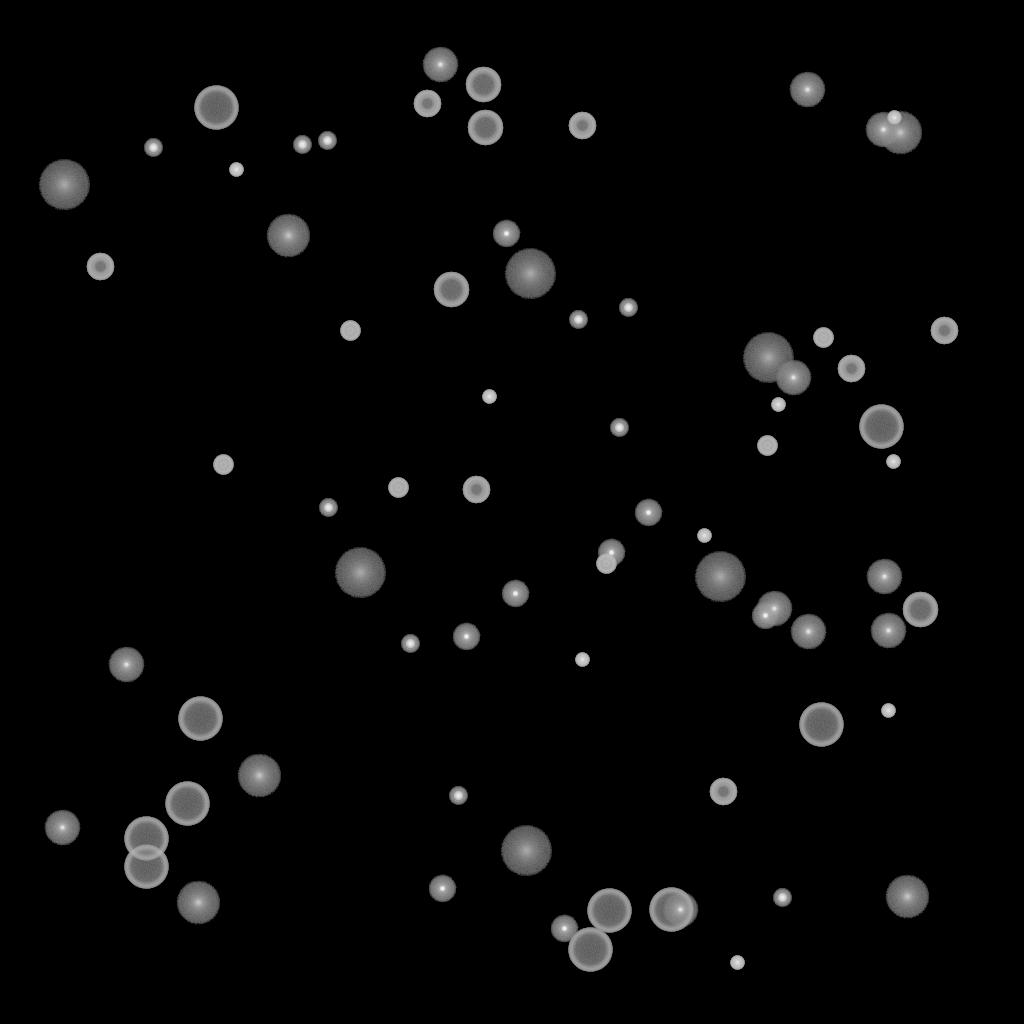depth:-10: (452, 623, 480, 651), (634, 499, 662, 527), (428, 875, 456, 903), (751, 602, 779, 630), (550, 915, 578, 943), (492, 220, 520, 248), (501, 580, 529, 608), (597, 539, 625, 567)
depth:-20: (293, 136, 311, 154), (569, 311, 587, 329), (773, 889, 791, 907), (144, 139, 162, 157), (401, 635, 419, 653), (318, 132, 336, 150), (610, 419, 628, 437), (319, 499, 337, 517), (619, 299, 637, 317), (449, 787, 467, 805)
depth:-30: (482, 390, 496, 404), (886, 455, 900, 469), (887, 111, 901, 125), (730, 956, 744, 970), (881, 704, 895, 718), (229, 163, 243, 177), (771, 398, 785, 412), (697, 529, 711, 543), (575, 653, 589, 667)
depth:-40: (388, 478, 408, 498), (596, 554, 616, 574), (813, 328, 833, 348), (340, 321, 360, 341), (757, 436, 777, 456), (213, 455, 233, 475)
depth:-50: (709, 778, 737, 806), (837, 355, 865, 383), (568, 112, 596, 140), (462, 476, 490, 504), (413, 90, 441, 118), (86, 253, 114, 281), (930, 317, 958, 345)
depth:-60: (902, 592, 938, 628), (465, 67, 501, 103), (467, 110, 503, 146), (433, 272, 469, 308)
depth:-70: (194, 86, 238, 130), (649, 888, 693, 932), (859, 405, 903, 449), (568, 928, 612, 972), (124, 817, 168, 861), (165, 782, 209, 826), (178, 697, 222, 741), (124, 845, 168, 889), (587, 889, 631, 933), (799, 703, 843, 747)
depth:0: (108, 647, 144, 683), (866, 559, 902, 595), (44, 810, 80, 846), (789, 72, 825, 108), (422, 47, 458, 83), (662, 892, 698, 928), (865, 112, 901, 148), (870, 613, 906, 649), (790, 614, 826, 650), (756, 591, 792, 627), (775, 360, 811, 396)
depth:10: (237, 754, 281, 798), (878, 111, 922, 155), (176, 881, 220, 925), (885, 875, 929, 919), (266, 214, 310, 258)
depth:20: (742, 333, 794, 383), (694, 552, 746, 602), (500, 826, 552, 876), (504, 249, 556, 299), (38, 160, 90, 210), (334, 548, 386, 598)
